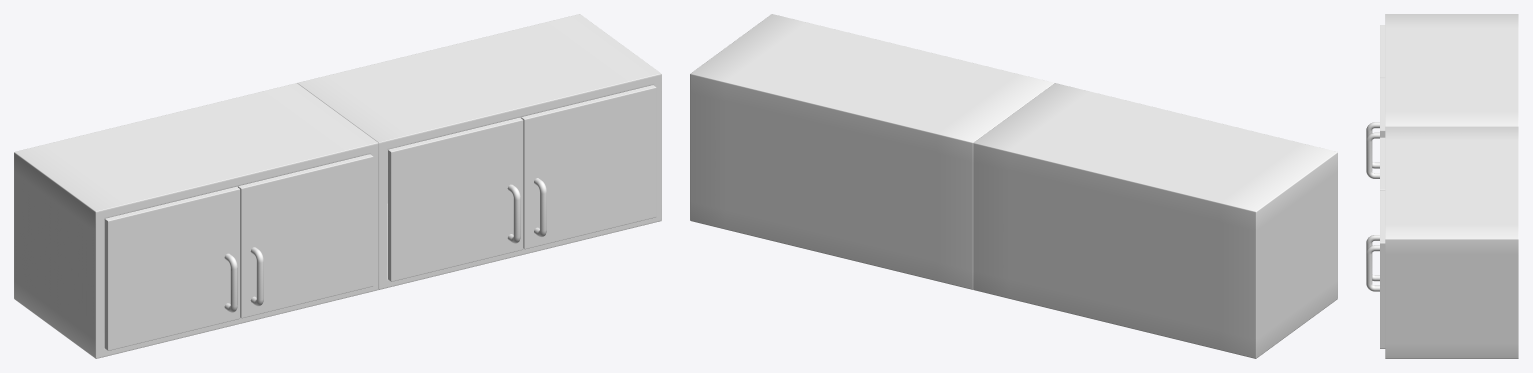
The model's file is Muebles.glb.
3 renders of one model, left to right at view 1: azimuth 30°, elevation 25°; view 2: azimuth 150°, elevation 25°; view 3: azimuth 270°, elevation 25°, orthographic. The views are drawn at different scales.
Parts seen in each view (by area): view 1: Muebles; view 2: Muebles; view 3: Muebles.
Part boxes in pixels (x1,y1,x2,y2): Muebles: [14, 14, 661, 358]; Muebles: [690, 14, 1337, 358]; Muebles: [1366, 14, 1518, 358].
Size of the model in its own units: 122 by 30.33 by 34.85.
1 material, 1 textured.
